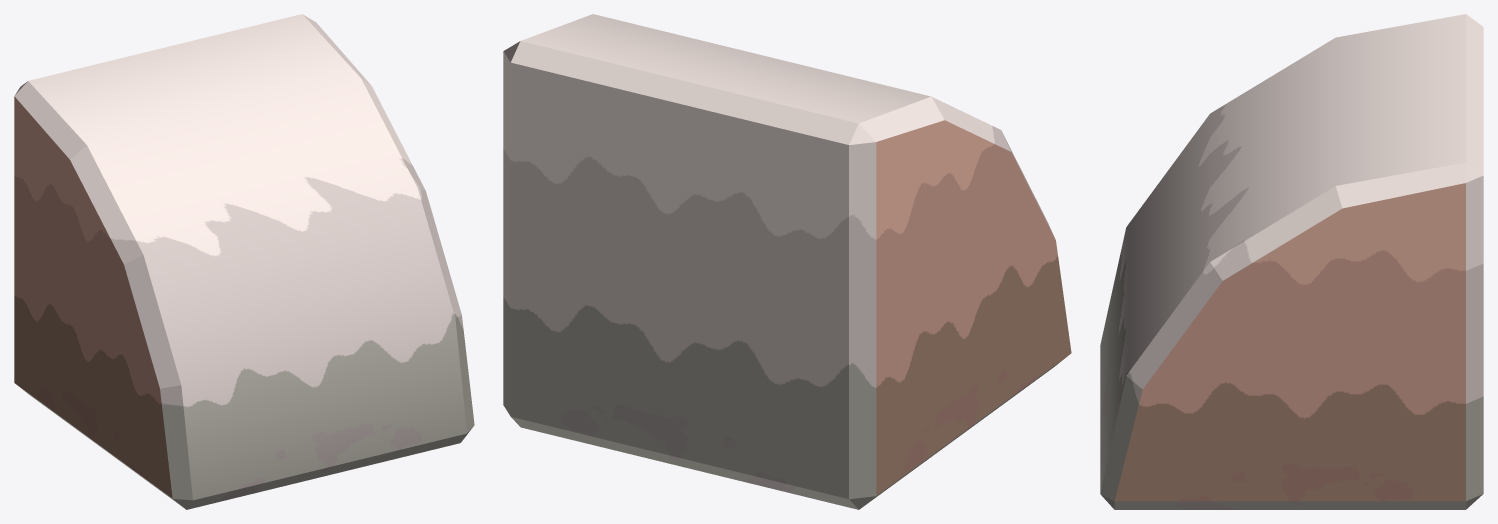
Rendered from R4B_RoundEdge_LOD1.glb.
3 renders of one model, left to right at view 1: azimuth 30°, elevation 25°; view 2: azimuth 150°, elevation 25°; view 3: azimuth 270°, elevation 25°, orthographic. The views are drawn at different scales.
Visible parts, largest first — view 1: R4B_RoundEdge_LOD1; view 2: R4B_RoundEdge_LOD1; view 3: R4B_RoundEdge_LOD1.
Boxes of the visible parts, <box> form: R4B_RoundEdge_LOD1: <box>14,14,474,509</box>; R4B_RoundEdge_LOD1: <box>503,14,1071,509</box>; R4B_RoundEdge_LOD1: <box>1100,14,1483,509</box>.
Bounding box in the file's own units: 0.52 × 0.5153 × 0.5153.
2 materials, 2 textured.
